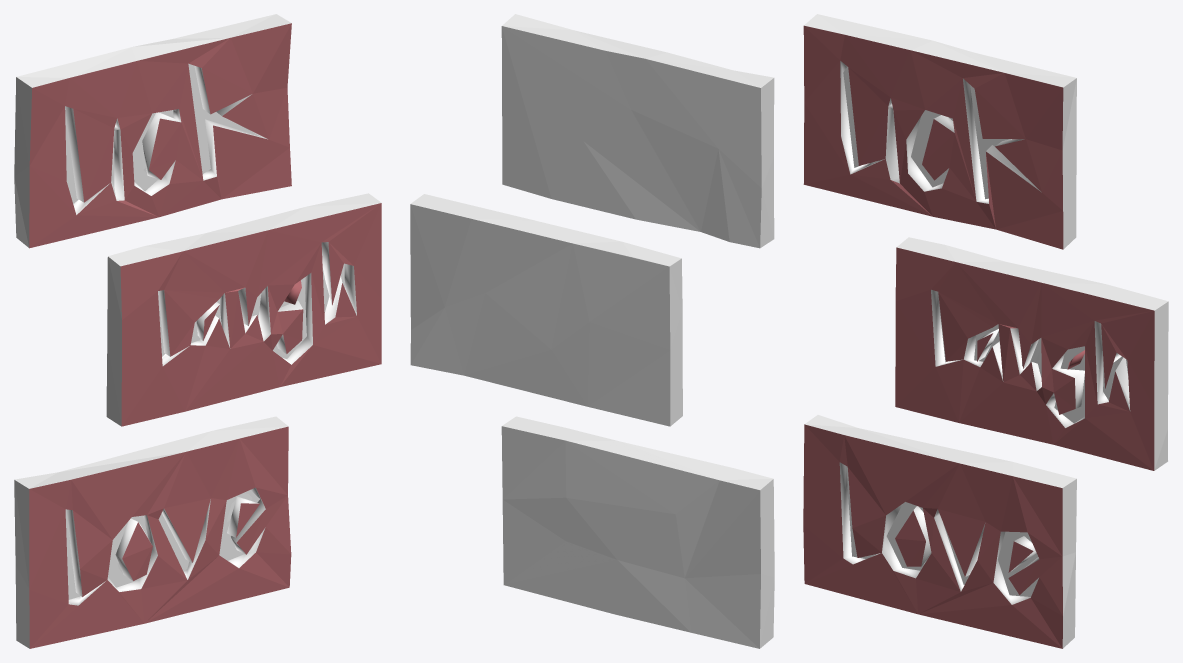
The model's file is lick_laugh_love_sign.fbx.
3 renders of one model, left to right at view 1: azimuth 30°, elevation 25°; view 2: azimuth 150°, elevation 25°; view 3: azimuth 330°, elevation 25°, orthographic.
Visible parts, largest first — view 1: lick_laugh_live; view 2: lick_laugh_live; view 3: lick_laugh_live.
Boxes of the visible parts, x1,y1,x2,y2 form: lick_laugh_live: [14, 14, 381, 648]; lick_laugh_live: [410, 14, 774, 648]; lick_laugh_live: [803, 14, 1168, 648].
Bounding box in the file's own units: 0.6541 × 0.9995 × 0.0515.
